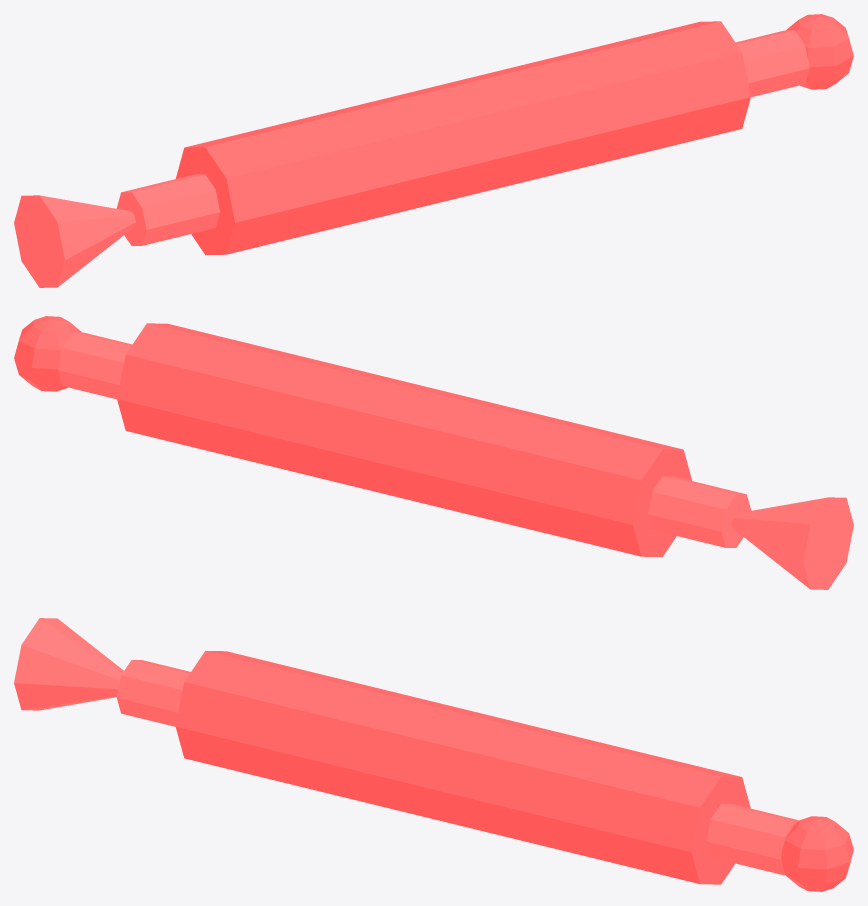
Rendered from gegnerlaser.fbx.
The picture shows the model from 3 angles, top to bottom: view 1: azimuth 30°, elevation 25°; view 2: azimuth 150°, elevation 25°; view 3: azimuth 330°, elevation 25°; orthographic projection.
Visible parts, largest first — view 1: EnemyLaserBolt; view 2: EnemyLaserBolt; view 3: EnemyLaserBolt.
Part boxes in pixels (x1,y1,x2,y2): EnemyLaserBolt: (14, 14, 853, 287); EnemyLaserBolt: (14, 316, 853, 589); EnemyLaserBolt: (14, 618, 853, 891).
Size of the model in its own units: 110 by 14 by 14.
